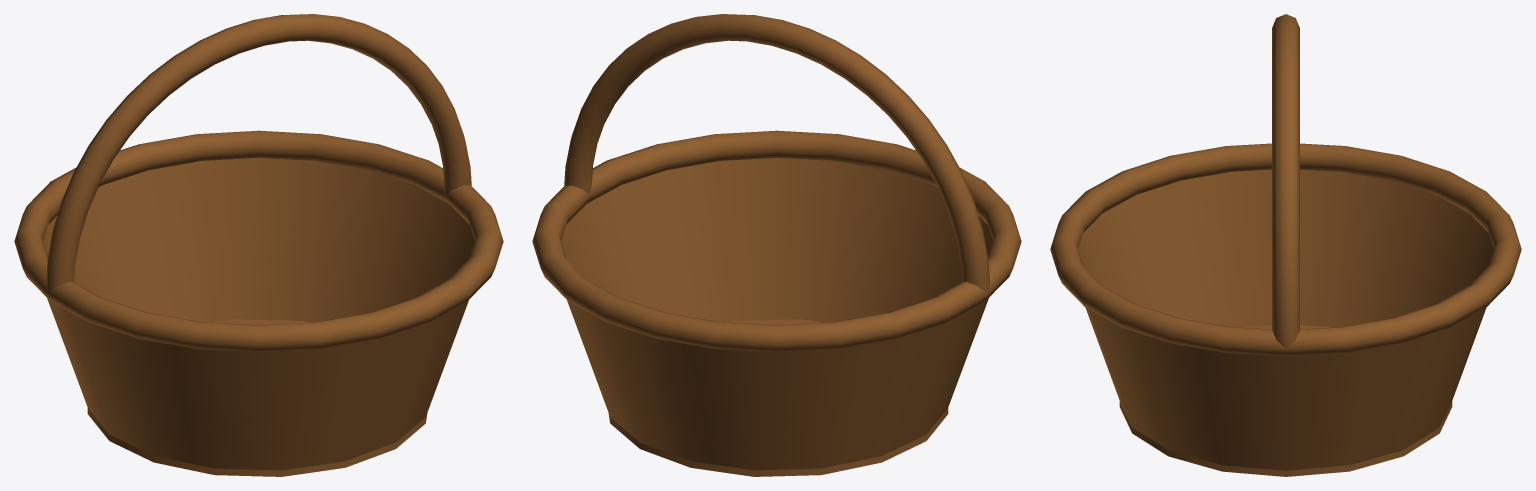
The model's file is basket.glb.
The picture shows the model from 3 angles, left to right: view 1: azimuth 30°, elevation 25°; view 2: azimuth 150°, elevation 25°; view 3: azimuth 270°, elevation 25°; orthographic projection. The views are drawn at different scales.
Bounding box in the file's own units: 1.7 × 1.48 × 1.7.
